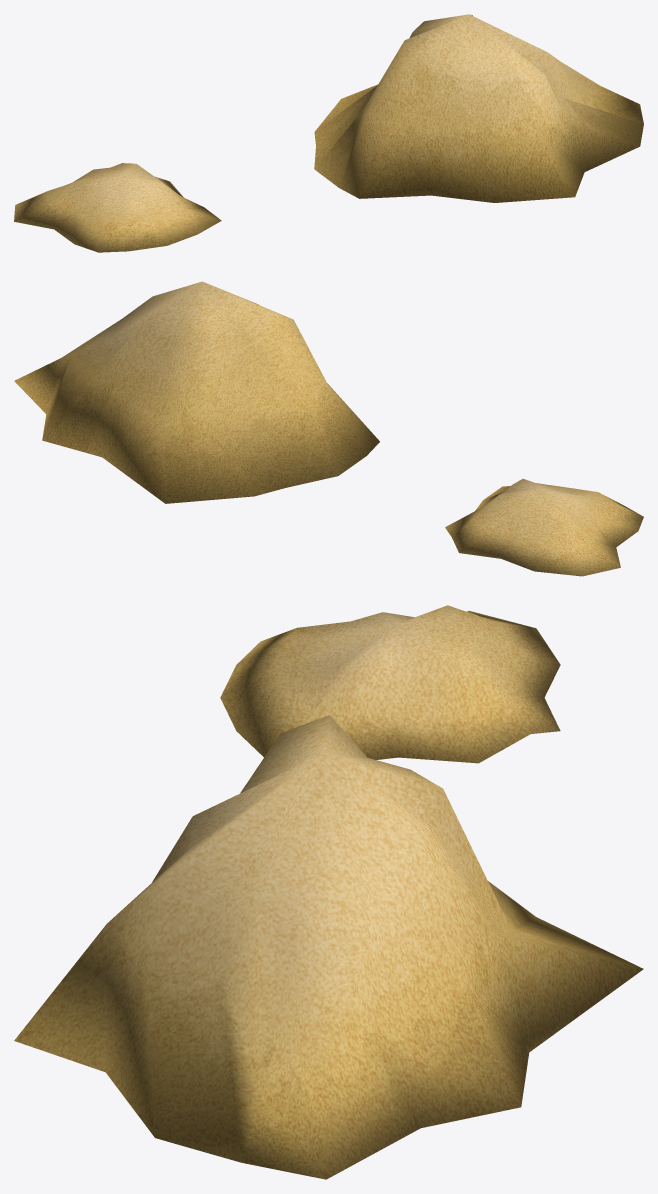
Rendered from Rubbles02.FBX.
3 views of the same model, one above another, from view 1: azimuth 30°, elevation 25°; view 2: azimuth 150°, elevation 25°; view 3: azimuth 270°, elevation 25° (orthographic). The views are drawn at different scales.
Parts seen in each view (by area): view 1: Pyramid001; view 2: Pyramid001; view 3: Pyramid001.
Part boxes in pixels (<box>): Pyramid001: <box>14,14,643,252</box>; Pyramid001: <box>14,281,643,576</box>; Pyramid001: <box>14,605,643,1179</box>.
Size of the model in its own units: 2.77 by 1.3 by 0.5971.
